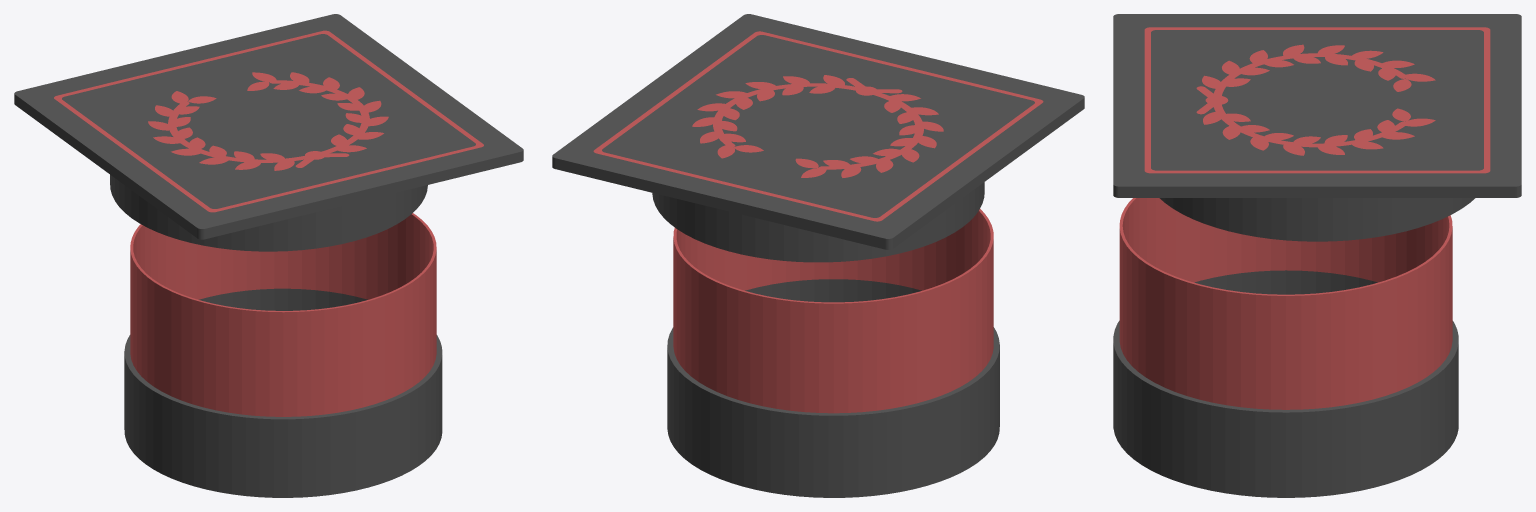
Rendered from bomboniera-laurea-alloro-facolta-aperto.glb.
3 views of the same model, side by side, from view 1: azimuth 30°, elevation 25°; view 2: azimuth 150°, elevation 25°; view 3: azimuth 270°, elevation 25° (orthographic). The views are drawn at different scales.
Parts seen in each view (by area): view 1: struttura_coperchio, fascia, struttura_base, simbolo_intarsio, bordo; view 2: struttura_coperchio, fascia, struttura_base, simbolo_intarsio, bordo; view 3: struttura_coperchio, fascia, struttura_base, simbolo_intarsio, bordo.
Part boxes in pixels (x1,y1,x2,y2): struttura_coperchio: (14, 14, 523, 251); fascia: (130, 213, 436, 416); struttura_base: (124, 288, 442, 497); simbolo_intarsio: (148, 72, 388, 170); bordo: (54, 30, 483, 212); struttura_coperchio: (552, 14, 1084, 262); fascia: (673, 209, 993, 413); struttura_base: (667, 279, 999, 497); simbolo_intarsio: (692, 75, 943, 177); bordo: (593, 31, 1043, 221); struttura_coperchio: (1113, 14, 1521, 241); fascia: (1119, 198, 1452, 409); struttura_base: (1113, 270, 1458, 497); simbolo_intarsio: (1196, 44, 1435, 155); bordo: (1144, 27, 1490, 173).
Size of the model in its own units: 0.065 by 0.057 by 0.065.
